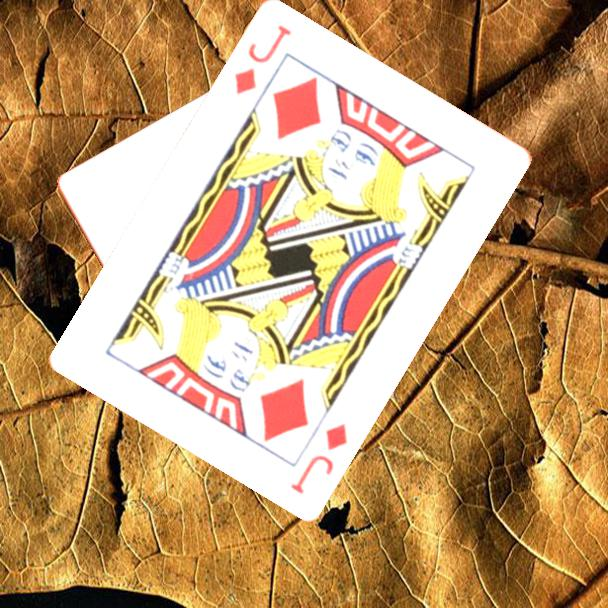d11: (286, 419, 351, 497), (230, 21, 294, 97)
